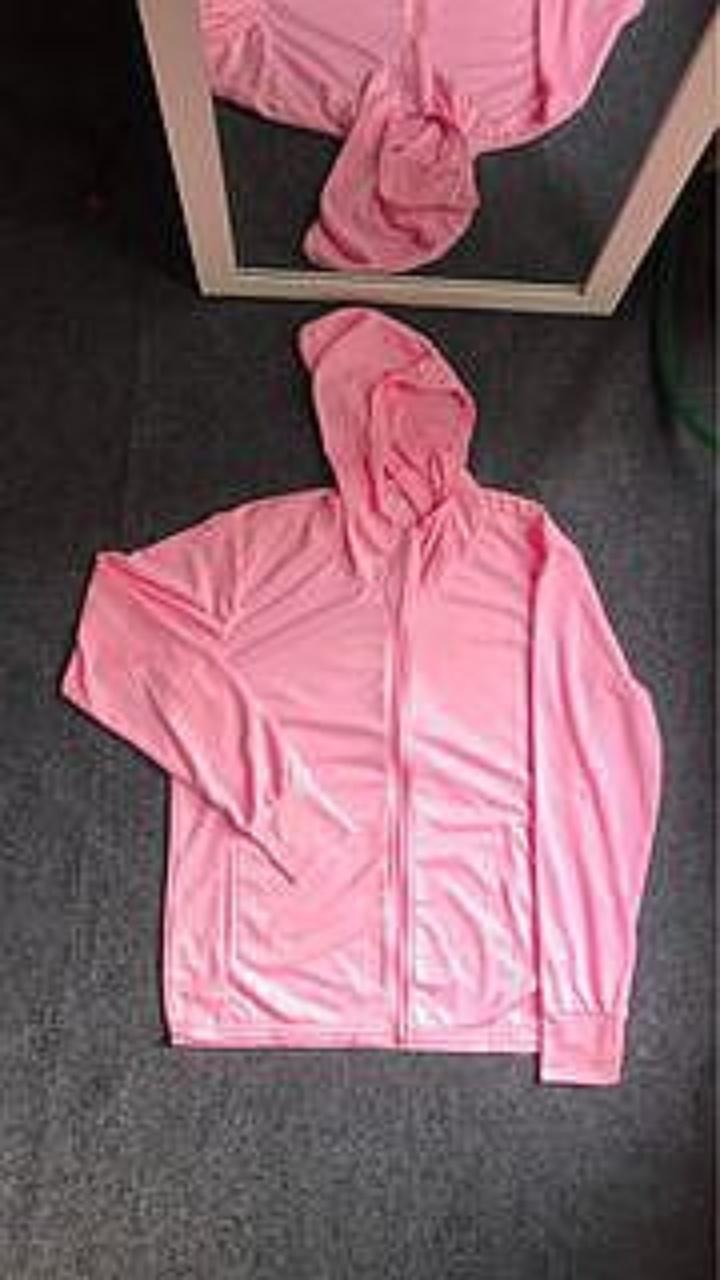Hoodie: (63, 309, 659, 1083)
